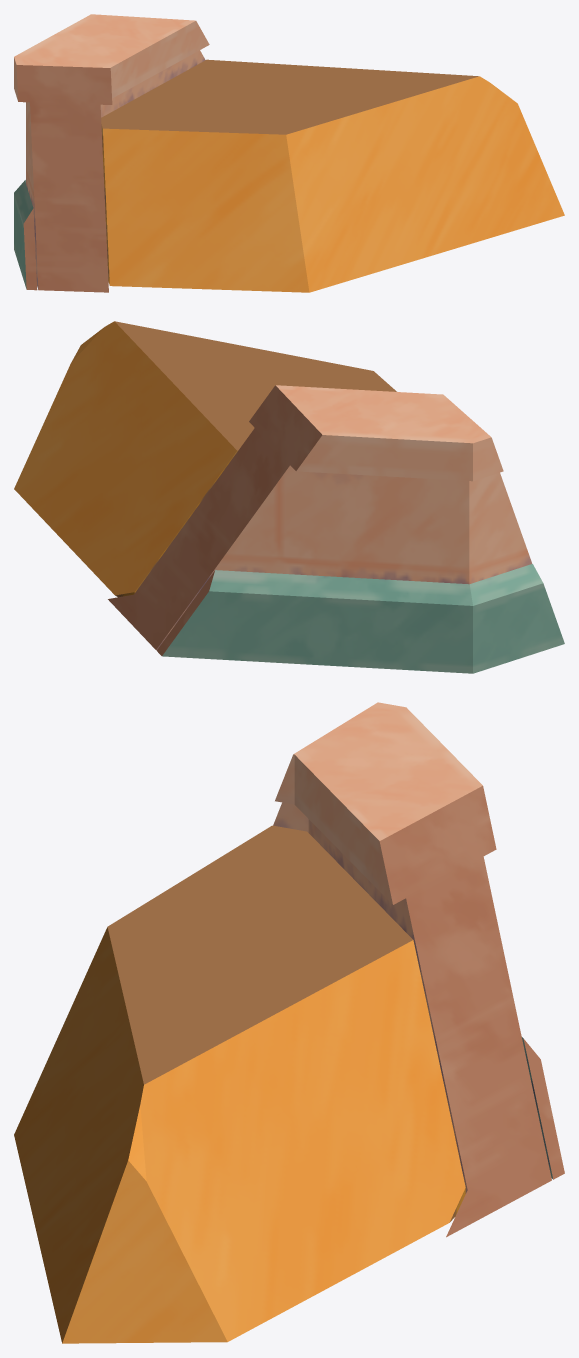
The model's file is vat_saffron_s03.fbx.
3 views of the same model, one above another, from view 1: azimuth 30°, elevation 25°; view 2: azimuth 150°, elevation 25°; view 3: azimuth 270°, elevation 25° (orthographic). The views are drawn at different scales.
Visible parts, largest first — view 1: vat_saffron_s03; view 2: vat_saffron_s03; view 3: vat_saffron_s03.
Part boxes in pixels (x1,y1,x2,y2): vat_saffron_s03: (14, 14, 564, 292); vat_saffron_s03: (14, 321, 564, 673); vat_saffron_s03: (14, 702, 564, 1343).
Bounding box in the file's own units: 4.38 × 1.7 × 2.79.
